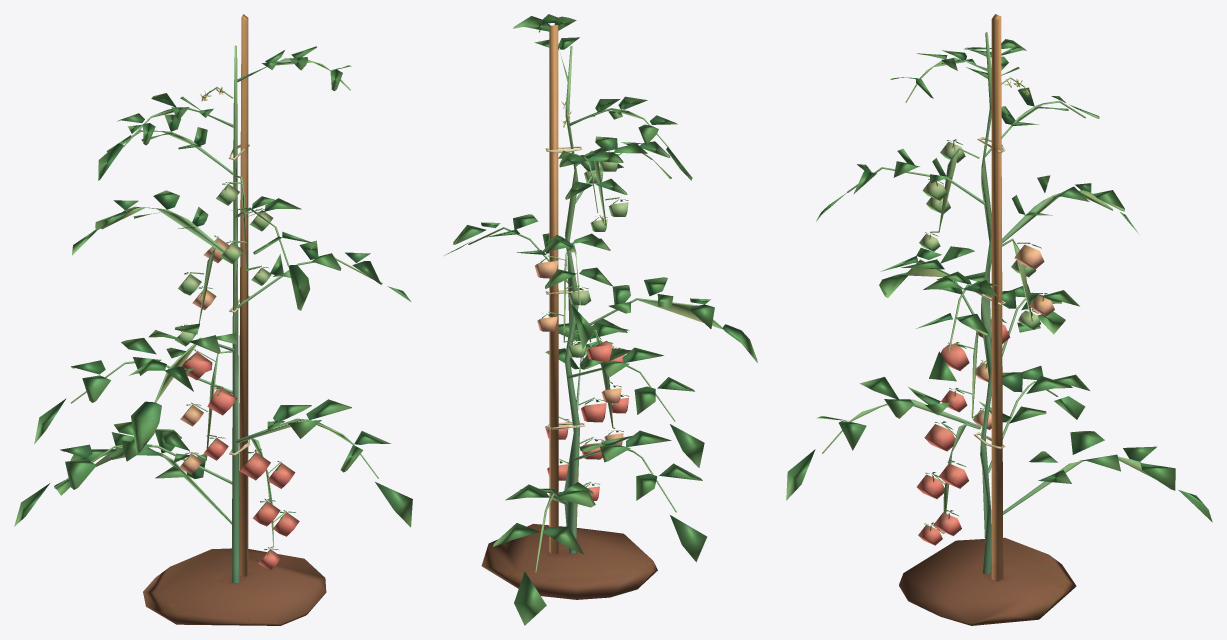
File: p_tomato.glb
The picture shows the model from 3 angles, left to right: view 1: azimuth 30°, elevation 25°; view 2: azimuth 150°, elevation 25°; view 3: azimuth 270°, elevation 25°; orthographic projection. The views are drawn at different scales.
Visible parts, largest first — view 1: tomato-plant_body; view 2: tomato-plant_body; view 3: tomato-plant_body.
Part boxes in pixels (bbox=[...]): tomato-plant_body: bbox=[14, 14, 412, 625]; tomato-plant_body: bbox=[444, 14, 757, 625]; tomato-plant_body: bbox=[786, 14, 1212, 625].
Size of the model in its own units: 0.735 by 1.22 by 0.8163.
Materials: 1 (1 with a texture image).
